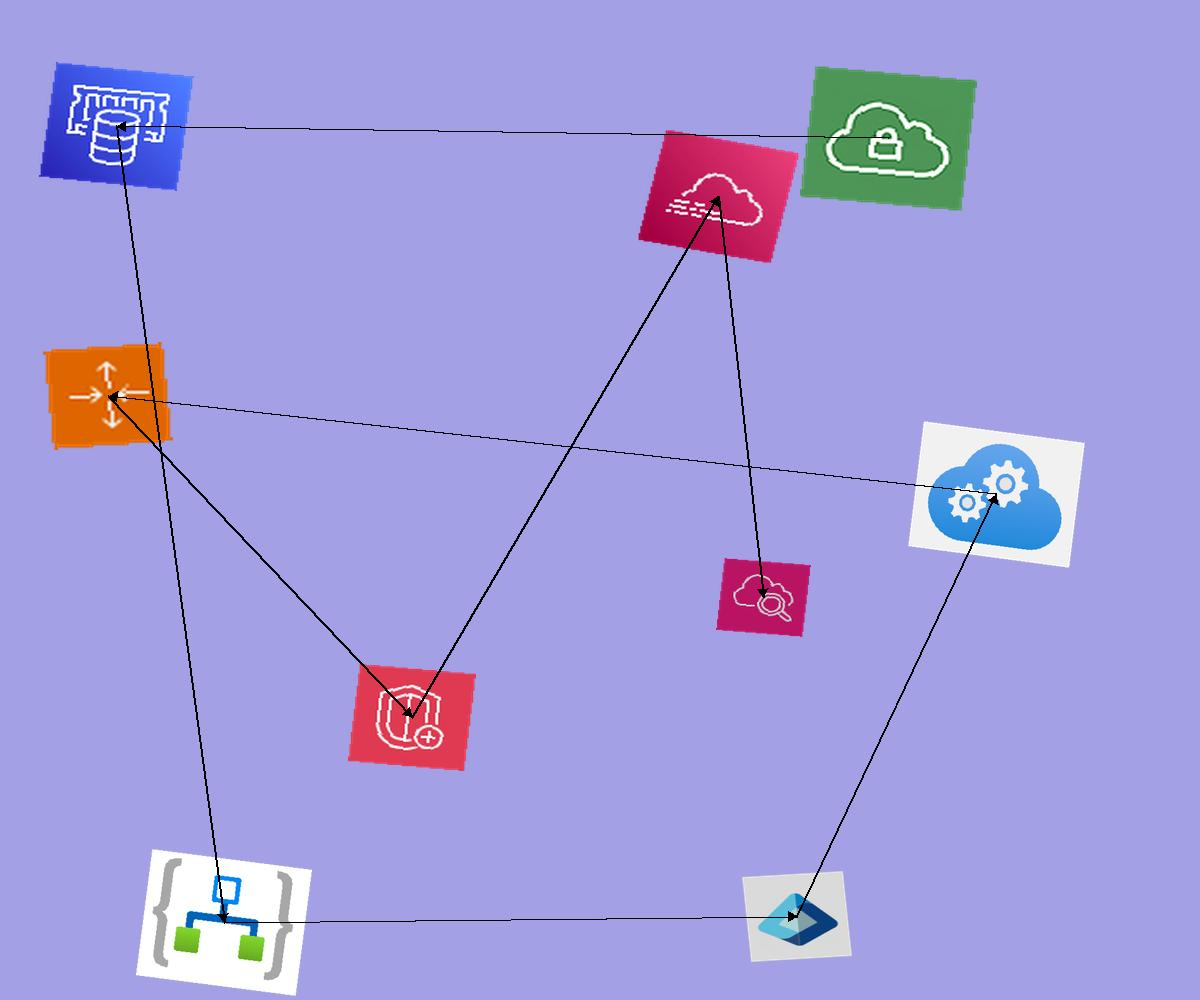AWS-CloudTrail: (637, 129, 800, 264)
AWS-CloudWatch: (716, 558, 811, 637)
AWS-ElastiCache: (39, 62, 194, 191)
AWS-Private_vpc: (800, 65, 977, 212)
AWS-Scaling-group: (43, 342, 173, 450)
AWS-Shield: (348, 664, 476, 771)
Azure_cloud_services: (908, 421, 1085, 568)
Azure_integration-204-Logic-Apps: (136, 849, 312, 996)
Azure_microsoft_entra: (742, 871, 852, 962)
